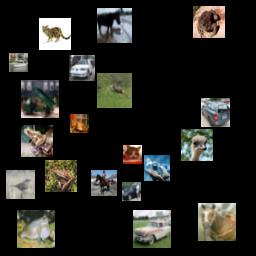automobile: (133, 210, 171, 248), (201, 98, 230, 127), (69, 55, 95, 81), (122, 182, 141, 201)
bird: (181, 129, 213, 161), (6, 170, 35, 199)
cat: (39, 18, 71, 50), (123, 145, 142, 164), (70, 114, 89, 133)
deer: (97, 73, 132, 108)
frog: (17, 210, 55, 248), (193, 6, 225, 38), (21, 125, 53, 157), (45, 160, 77, 192), (144, 155, 170, 181)
ship: (9, 53, 28, 72)
truck: (21, 80, 59, 118)
